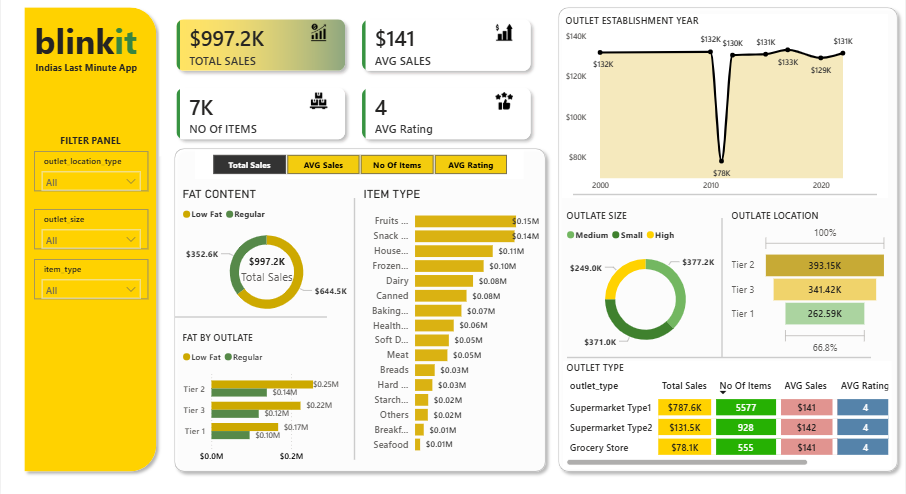

The page's visual inventory and layout, read from the dashboard file:
{"tool":"powerbi","page":{"name":"Page 1","canvas":[1280,720],"ordinal":0},"visuals":[{"type":"shape","box":[24.5,15.8,205,676],"z":0},{"type":"textbox","box":[43.2,34.6,175.7,74.9],"z":1000},{"type":"textbox","box":[43.7,95.7,176.4,28.6],"z":2000},{"type":"cardVisual","fields":{"Data":["blinkit.Total Sales","blinkit.AVG Sales","blinkit.No Of Items","blinkit.AVG Rating"]},"box":[219.7,15.6,561.3,222.5],"z":3000},{"type":"shape","box":[236.7,215.4,544.3,476.2],"z":4000},{"type":"donutChart","title":"FAT CONTENT","fields":{"Y":["blinkit.Total Sales"],"Category":["blinkit.item_fat_content"]},"box":[252.3,279.2,248,194.2],"z":5000},{"type":"slicer","fields":{"Values":["Metrics.Metrics"]},"box":[275,226.8,466.3,41.1],"z":6000},{"type":"cardVisual","fields":{"Data":["blinkit.Total Sales"]},"box":[310.4,354.3,133.2,83.6],"z":7000},{"type":"clusteredBarChart","title":"FAT BY OUTLATE","fields":{"Y":["blinkit.Total Sales"],"Category":["blinkit.outlet_location_type"],"Series":["blinkit.item_fat_content"]},"box":[252.3,483.3,248,195.6],"z":8000},{"type":"shape","box":[246.6,453.5,215.4,19.8],"z":9000},{"type":"shape","box":[493.2,294.8,15.6,371.3],"z":10000},{"type":"barChart","title":"ITEM TYPE","fields":{"Y":["blinkit.Total Sales"],"Category":["blinkit.item_type"]},"box":[508.8,279.2,259.4,386.9],"z":11000},{"type":"shape","box":[780.9,15.6,498.9,676.1],"z":12000},{"type":"lineChart","title":"OUTLET ESTABLISHMENT YEAR","fields":{"Y":["blinkit.Total Sales"],"Category":["blinkit.outlet_establishment_year"]},"box":[795.1,34,462,260.8],"z":13000},{"type":"shape","box":[810.7,284.9,430.9,9.9],"z":14000},{"type":"donutChart","title":"OUTLATE SIZE","fields":{"Y":["blinkit.Total Sales"],"Category":["blinkit.outlet_size"]},"box":[796.5,310.4,233.9,211.2],"z":15000},{"type":"shape","box":[1017.6,323.1,8.5,198.4],"z":16000},{"type":"funnel","title":"OUTLATE LOCATION","fields":{"Y":["Sum(blinkit.total_sales)"],"Category":["blinkit.outlet_location_type"]},"box":[1030.4,310.4,231,211.2],"z":17000},{"type":"shape","box":[802.2,515.9,430.9,9.9],"z":18000},{"type":"pivotTable","title":"OUTLET TYPE","fields":{"Rows":["blinkit.outlet_type"],"Values":["blinkit.Total Sales","blinkit.No Of Items","blinkit.AVG Sales","blinkit.AVG Rating","Avg(blinkit.item_visibility)"]},"box":[796.5,525.8,466.3,153.1],"z":19000},{"type":"slicer","fields":{"Values":["blinkit.outlet_location_type"]},"box":[46.8,228.2,161.6,56.7],"z":20000},{"type":"slicer","fields":{"Values":["blinkit.outlet_size"]},"box":[46.8,310.4,161.6,56.7],"z":21000},{"type":"slicer","fields":{"Values":["blinkit.item_type"]},"box":[46.8,381.3,161.6,56.7],"z":22000},{"type":"textbox","box":[68,199.8,117.6,28.3],"z":23000}]}

Visuals, with their boxes on the page's 1280x720 design canvas (x1, y1, x2, y2). These are canvas units, not pixel positions in the 906x494 screenshot, which may show the page scaled, cropped or inside an application window:
shape: select_region(24, 16, 230, 692)
textbox: select_region(43, 35, 219, 110)
textbox: select_region(44, 96, 220, 124)
cardVisual - blinkit.Total Sales x blinkit.AVG Sales: select_region(220, 16, 781, 238)
shape: select_region(237, 215, 781, 692)
"FAT CONTENT" donutChart: select_region(252, 279, 500, 473)
slicer - Metrics.Metrics: select_region(275, 227, 741, 268)
cardVisual - blinkit.Total Sales: select_region(310, 354, 444, 438)
"FAT BY OUTLATE" clusteredBarChart: select_region(252, 483, 500, 679)
shape: select_region(247, 454, 462, 473)
shape: select_region(493, 295, 509, 666)
"ITEM TYPE" barChart: select_region(509, 279, 768, 666)
shape: select_region(781, 16, 1280, 692)
"OUTLET ESTABLISHMENT YEAR" lineChart: select_region(795, 34, 1257, 295)
shape: select_region(811, 285, 1242, 295)
"OUTLATE SIZE" donutChart: select_region(796, 310, 1030, 522)
shape: select_region(1018, 323, 1026, 522)
"OUTLATE LOCATION" funnel: select_region(1030, 310, 1261, 522)
shape: select_region(802, 516, 1233, 526)
"OUTLET TYPE" pivotTable: select_region(796, 526, 1263, 679)
slicer - blinkit.outlet_location_type: select_region(47, 228, 208, 285)
slicer - blinkit.outlet_size: select_region(47, 310, 208, 367)
slicer - blinkit.item_type: select_region(47, 381, 208, 438)
textbox: select_region(68, 200, 186, 228)
